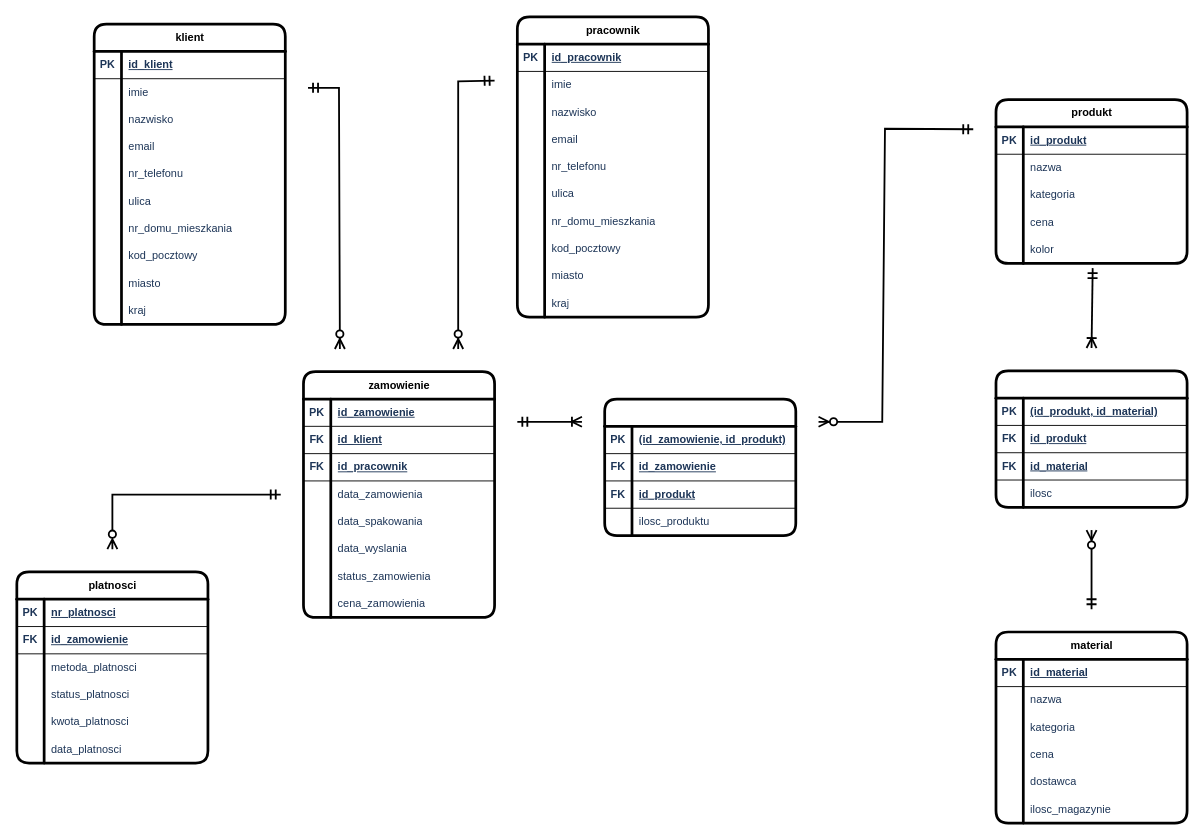
This 1204x840 diagram has some shape labels left out. Here are the shapes that lost their labels. From the top down, the box of each, then its label:
(994, 369, 1188, 508): material_produktu
(603, 397, 797, 536): zamowiony_produkt
